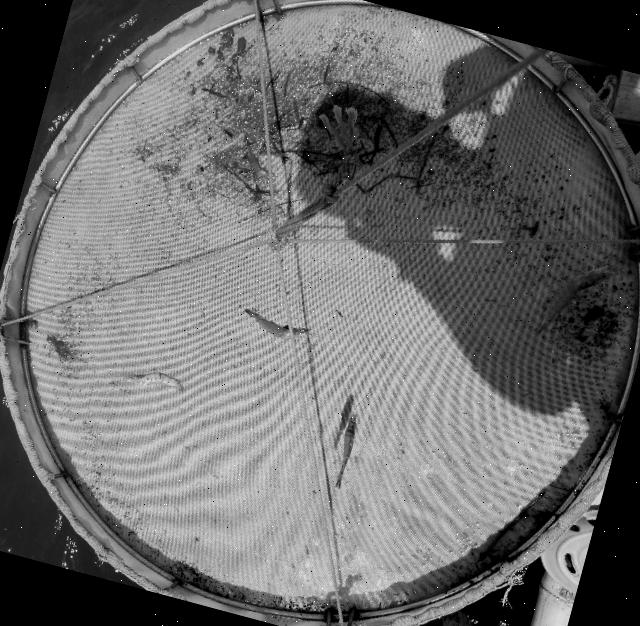shrimp: (538, 265, 615, 334), (245, 307, 311, 339), (335, 411, 357, 489), (245, 132, 277, 178), (121, 373, 183, 391)
